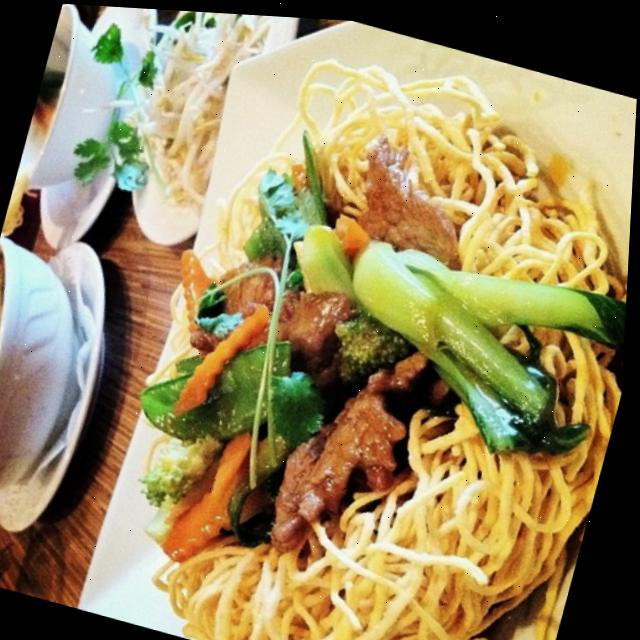面条主食: (75, 22, 639, 640)
